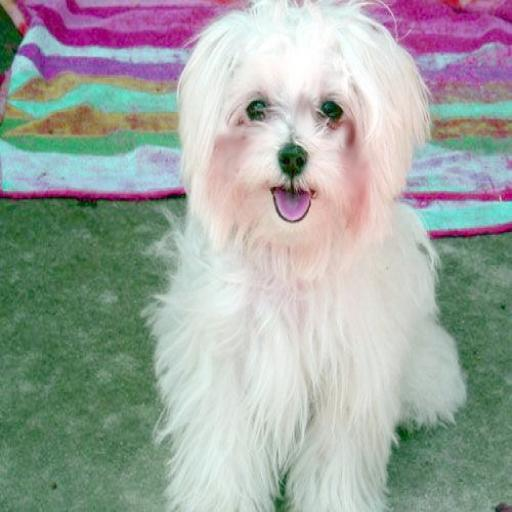dog_face: (176, 7, 413, 269)
